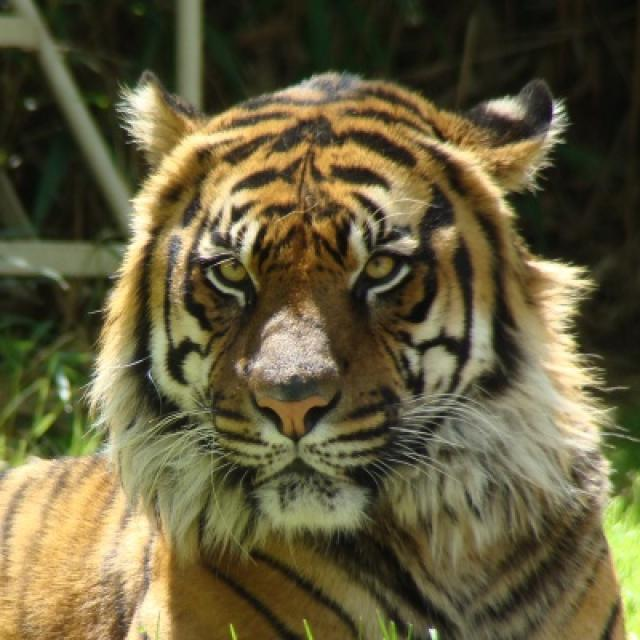Tiger: (0, 70, 630, 638)
